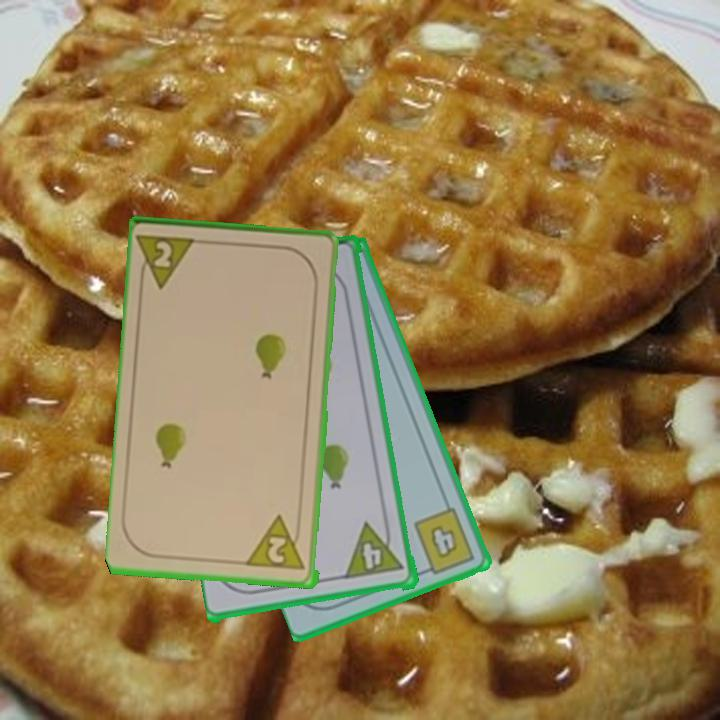2p: (245, 512, 309, 574), (151, 237, 175, 271)
4b: (410, 503, 478, 578)
4p: (342, 522, 388, 578)
